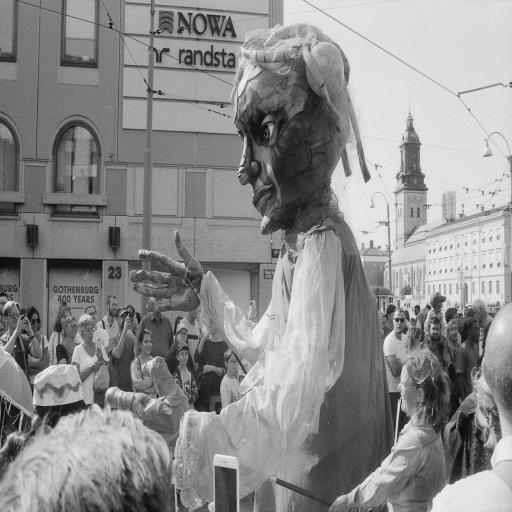face: (8, 309, 20, 328), (84, 322, 94, 342), (68, 320, 78, 339), (30, 314, 40, 332), (394, 315, 404, 333), (144, 336, 152, 356), (431, 323, 440, 340), (178, 329, 188, 343), (111, 298, 118, 317), (180, 349, 188, 365), (450, 325, 458, 341)
